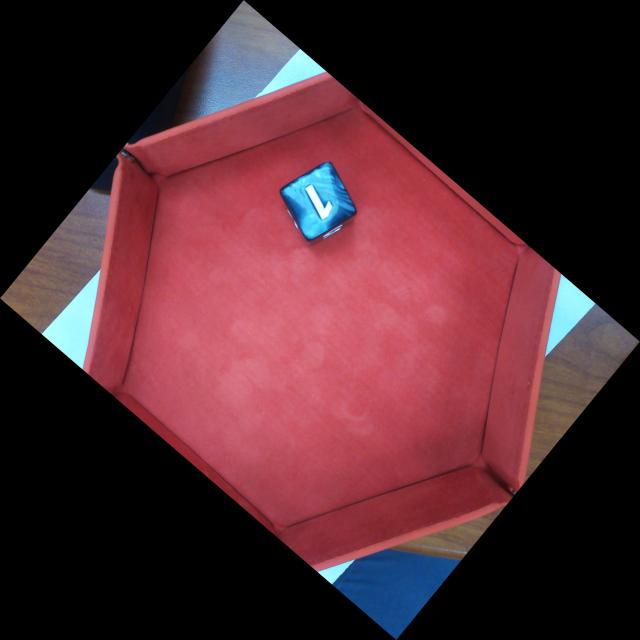dice: (281, 165, 356, 241)
